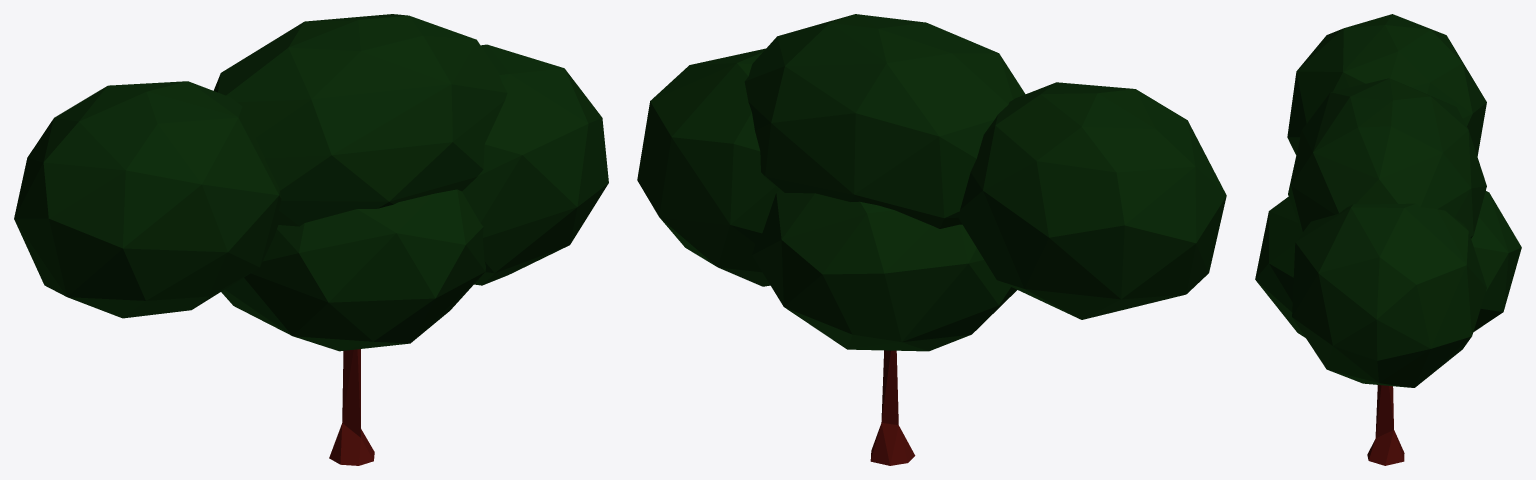
3 renders of one model, left to right at view 1: azimuth 30°, elevation 25°; view 2: azimuth 150°, elevation 25°; view 3: azimuth 270°, elevation 25°, orthographic. The views are drawn at different scales.
Parts seen in each view (by area): view 1: skp8DE2 (×5); view 2: skp8DE2 (×5); view 3: skp8DE2 (×5).
Part boxes in pixels (x1=…): skp8DE2 (×5): x1=14, y1=14, x2=608, y2=465; skp8DE2 (×5): x1=637, y1=14, x2=1226, y2=465; skp8DE2 (×5): x1=1255, y1=14, x2=1521, y2=465.
Bounding box in the file's own units: 219 × 107 × 159.
